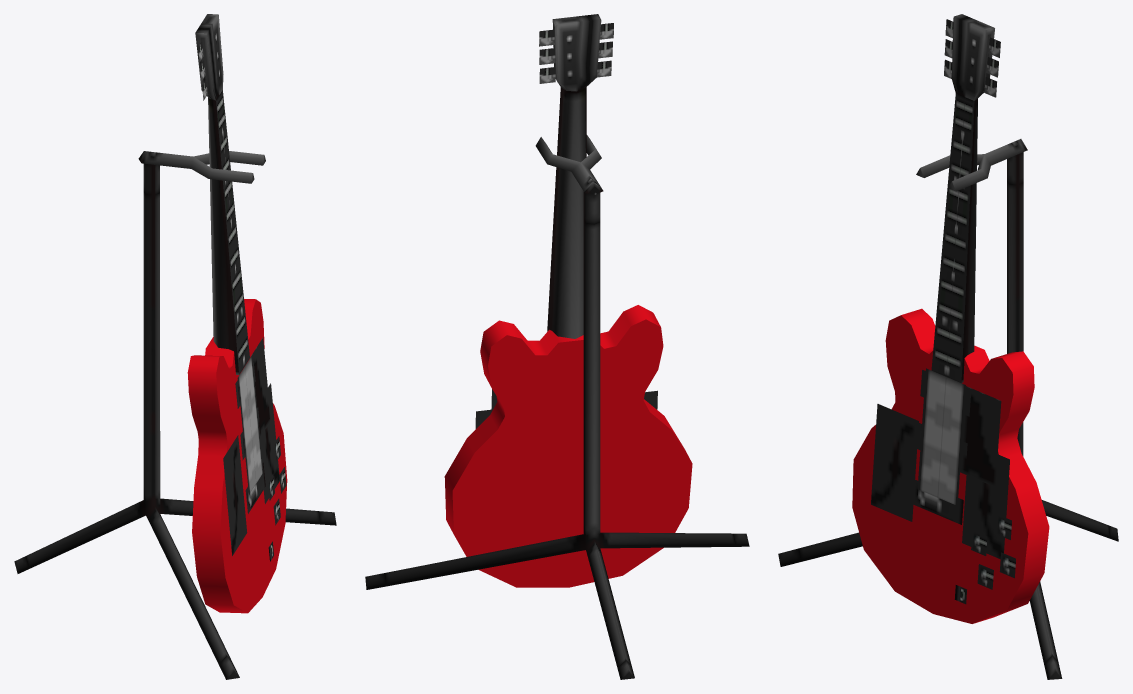
The model's file is rmk_gtr_Egtr02.dae.
The picture shows the model from 3 angles, left to right: view 1: azimuth 30°, elevation 25°; view 2: azimuth 150°, elevation 25°; view 3: azimuth 270°, elevation 25°; orthographic projection.
Parts seen in each view (by area): view 1: rmk_gtr_Egtr02; view 2: rmk_gtr_Egtr02; view 3: rmk_gtr_Egtr02.
Boxes of the visible parts, <box> form: rmk_gtr_Egtr02: <box>14,14,336,679</box>; rmk_gtr_Egtr02: <box>365,14,749,679</box>; rmk_gtr_Egtr02: <box>778,14,1118,679</box>.
Bounding box in the file's own units: 22.72 × 42.53 × 22.75.
3 materials, 3 textured.
